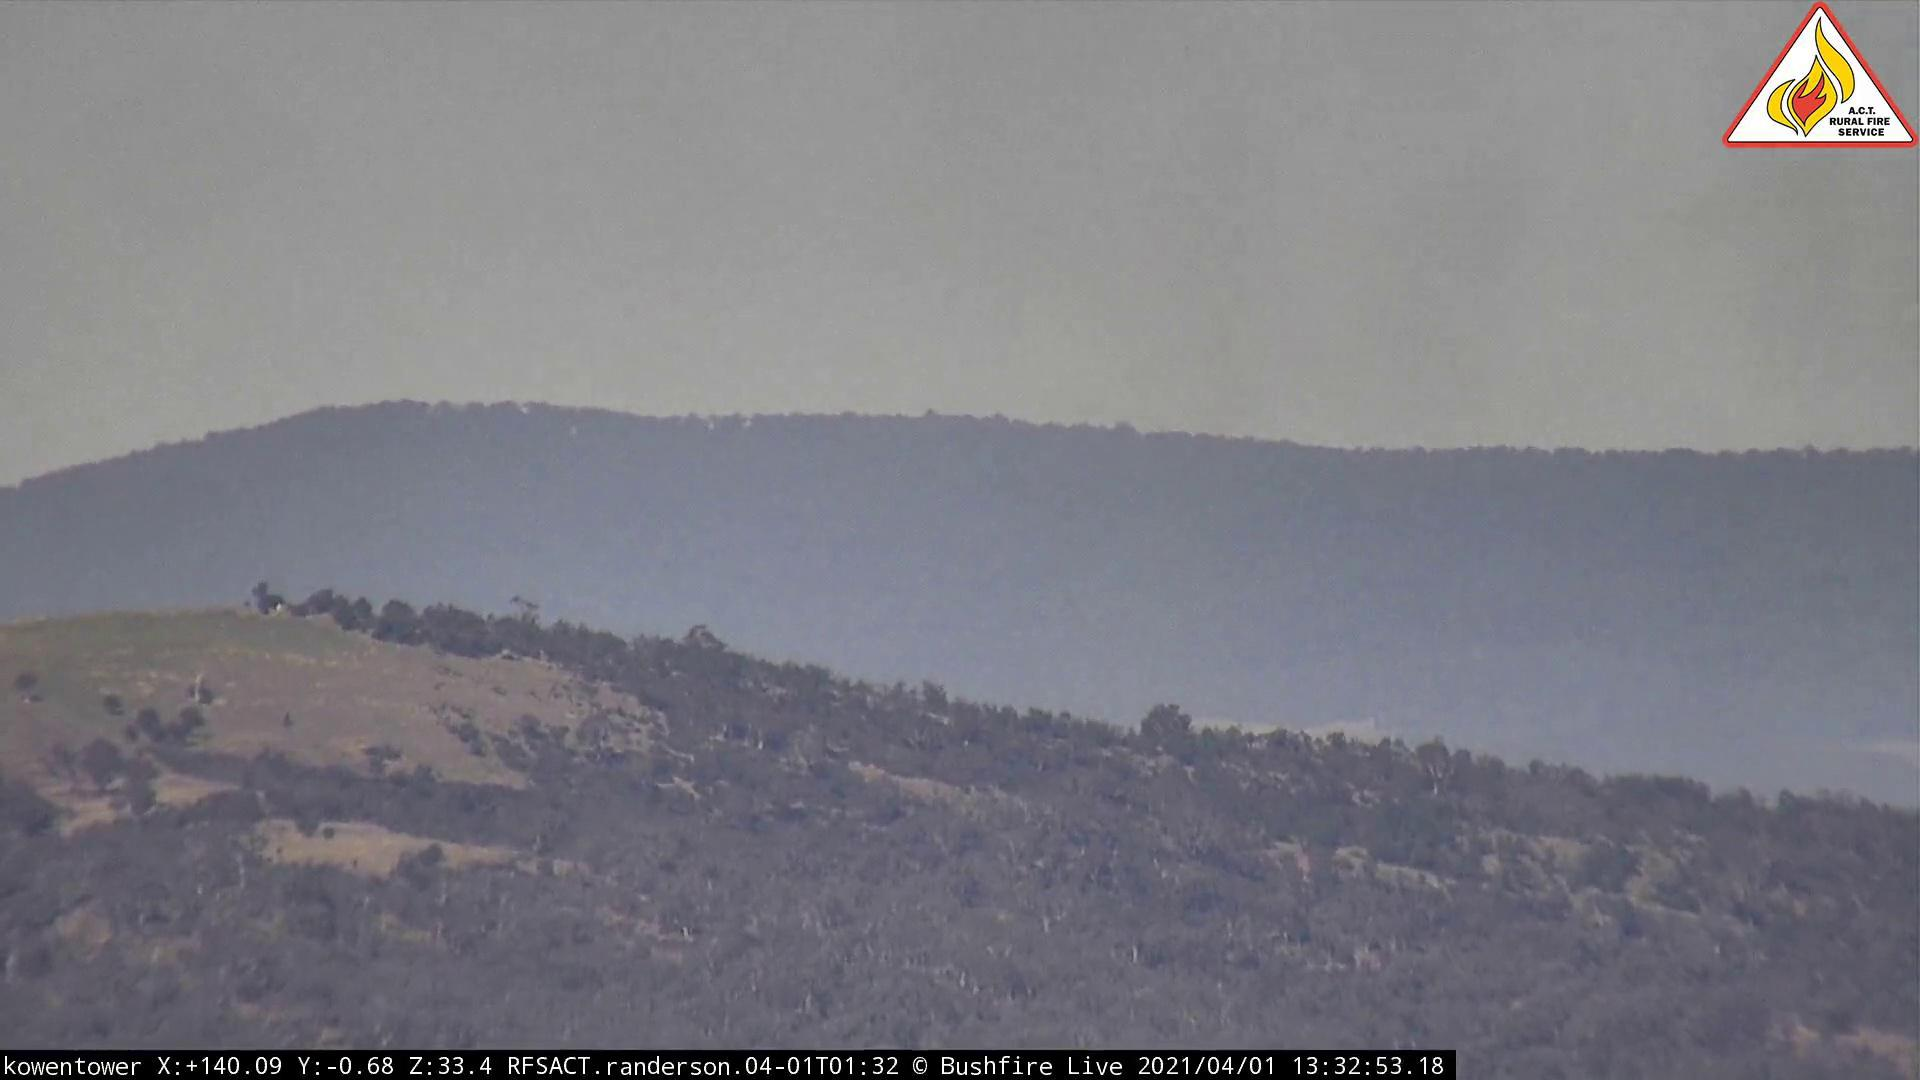instance_salient_object: (1102, 40, 1556, 401)
